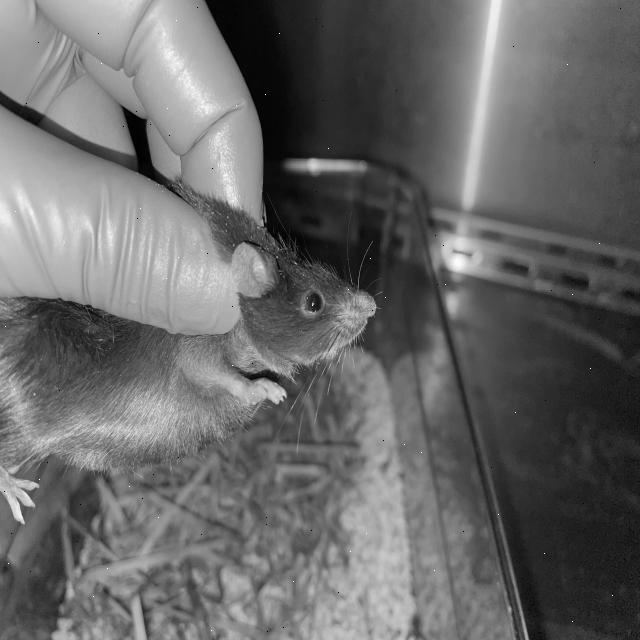Face: (229, 184, 383, 405)
